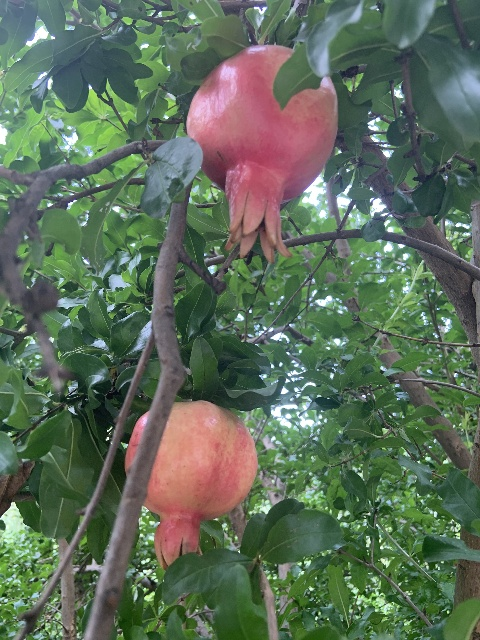ripe: (186, 43, 338, 263), (124, 401, 257, 570)
